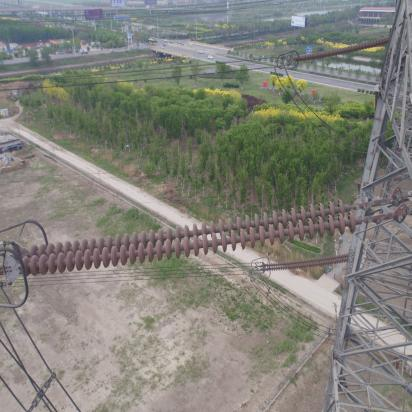insulator: (17, 196, 379, 279), (294, 36, 389, 63), (266, 253, 349, 272)
